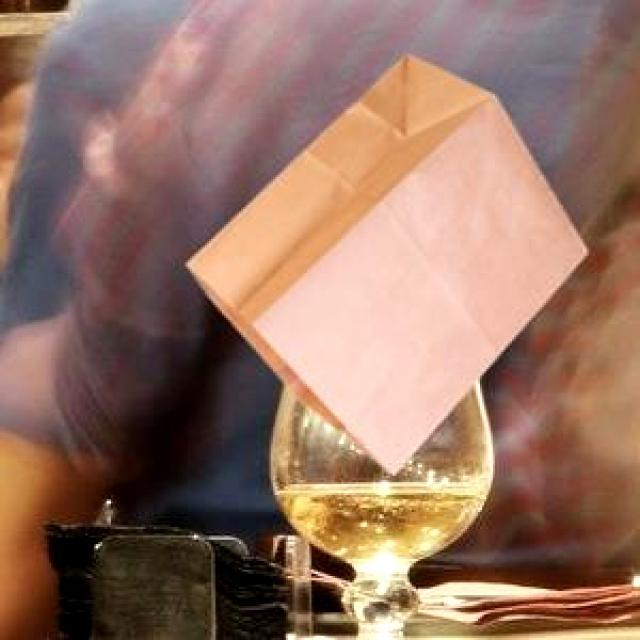Paper_Bag: (184, 52, 584, 470)
